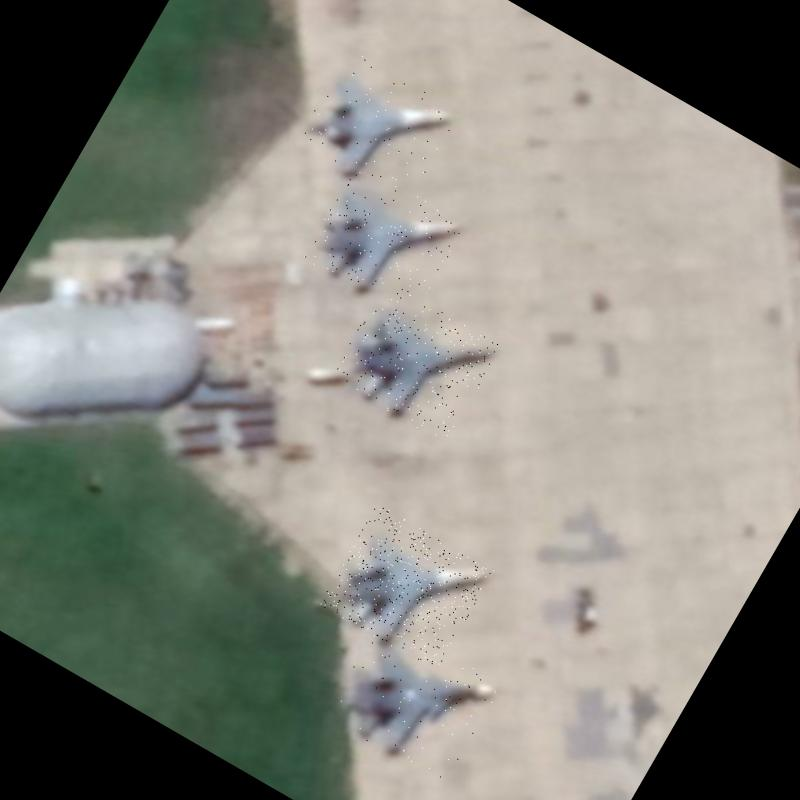A1: (319, 504, 494, 672), (330, 280, 503, 445), (292, 47, 461, 210), (302, 160, 469, 322)
A19: (324, 616, 504, 787)
